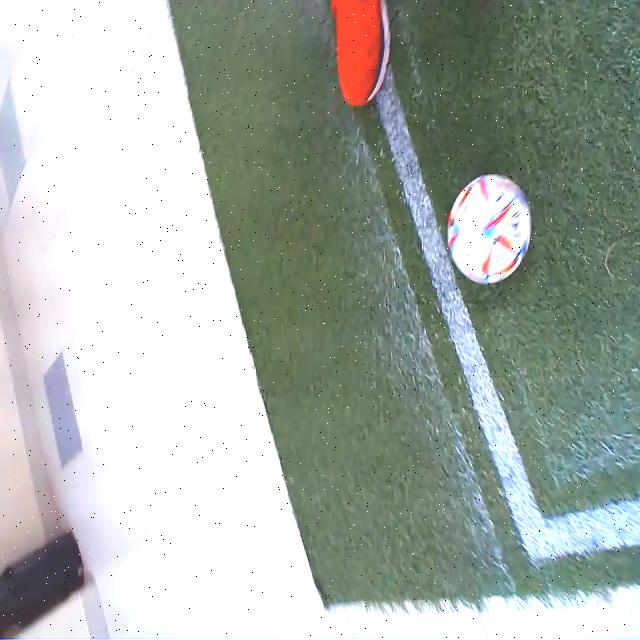ball: (448, 171, 532, 285)
